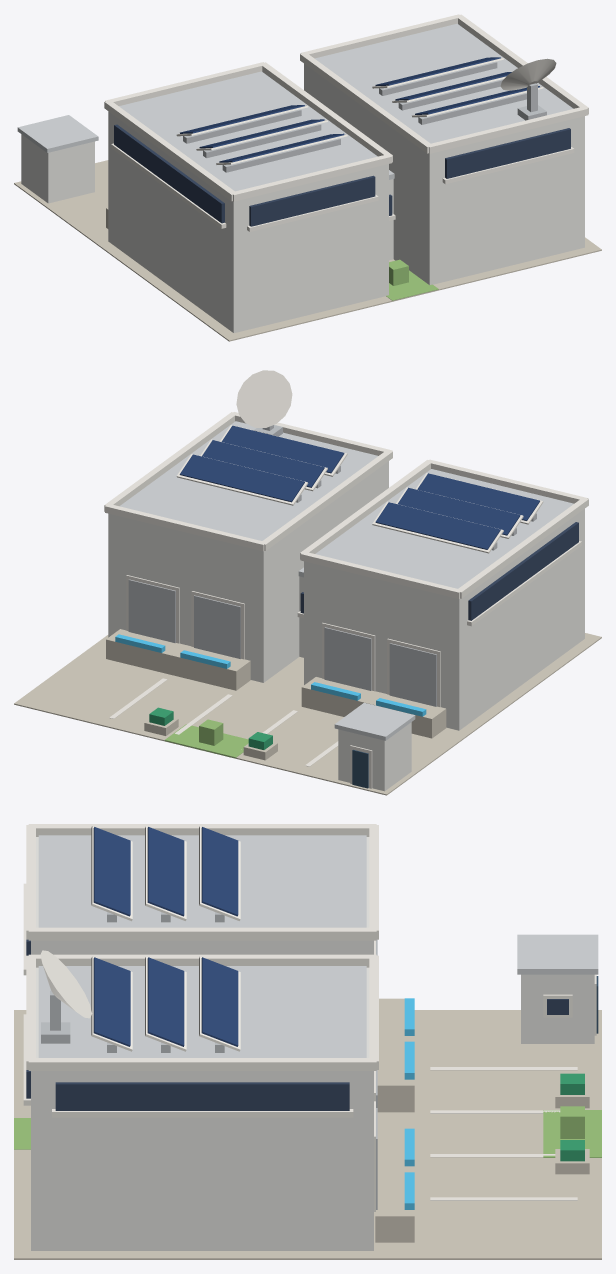
The picture shows the model from 3 angles, top to bottom: view 1: azimuth 30°, elevation 25°; view 2: azimuth 150°, elevation 25°; view 3: azimuth 270°, elevation 25°; orthographic projection. The views are drawn at different scales.
Parts seen in each view (by area): view 1: hall_a, hall_b, roof (×2), parapet (×8), window_band (×3), yard, panel_rail (×6), gatehouse, solar_panel (×6), sill (×3), gatehouse_roof, satellite_dish (+2 smaller); view 2: hall_a, yard, hall_b, roof (×2), solar_panel (×6), parapet (×8), garage_door (×4), dock (×2), gatehouse, window_band, satellite_dish, garage_door_frame (×4) (+6 smaller); view 3: hall_b, yard, roof (×2), parapet (×8), solar_panel (×6), window_band, dock (×2), hall_a, gatehouse, solar_frame (×6), gatehouse_roof, sill (+6 smaller).
Part boxes in pixels (x1,y1,x2,y2): hall_a: (108,111,388,332); hall_b: (304,63,584,285); roof (×2): (119,23,573,191); parapet (×8): (104,14,588,201); window_band (×3): (114,124,570,226); yard: (14,160,601,341); panel_rail (×6): (183,61,526,172); gatehouse: (21,134,94,203); solar_panel (×6): (180,57,539,162); sill (×3): (111,143,574,231); gatehouse_roof: (17,115,98,152); satellite_dish: (500,58,556,90); hall_a: (304,509,584,730); yard: (14,633,601,795); hall_b: (108,461,388,682); roof (×2): (120,421,573,588); solar_panel (×6): (179,425,539,549); parapet (×8): (104,412,588,598); garage_door (×4): (128,579,436,706); dock (×2): (106,629,446,738); gatehouse: (338,722,411,791); window_band: (468,522,578,620); satellite_dish: (236,370,292,427); garage_door_frame (×4): (126,575,440,706); hall_b: (31,967,373,1250); yard: (14,1010,601,1259); roof (×2): (38,835,366,1057); parapet (×8): (26,824,378,1070); solar_panel (×6): (93,827,238,1046); window_band: (55,1082,349,1110); dock (×2): (375,998,414,1242); hall_a: (31,837,373,954); gatehouse: (521,974,594,1043); solar_frame (×6): (91,826,240,1051); gatehouse_roof: (517,934,598,974); sill: (52,1109,353,1117).
Size of the model in its own units: 24 by 12.11 by 24.
